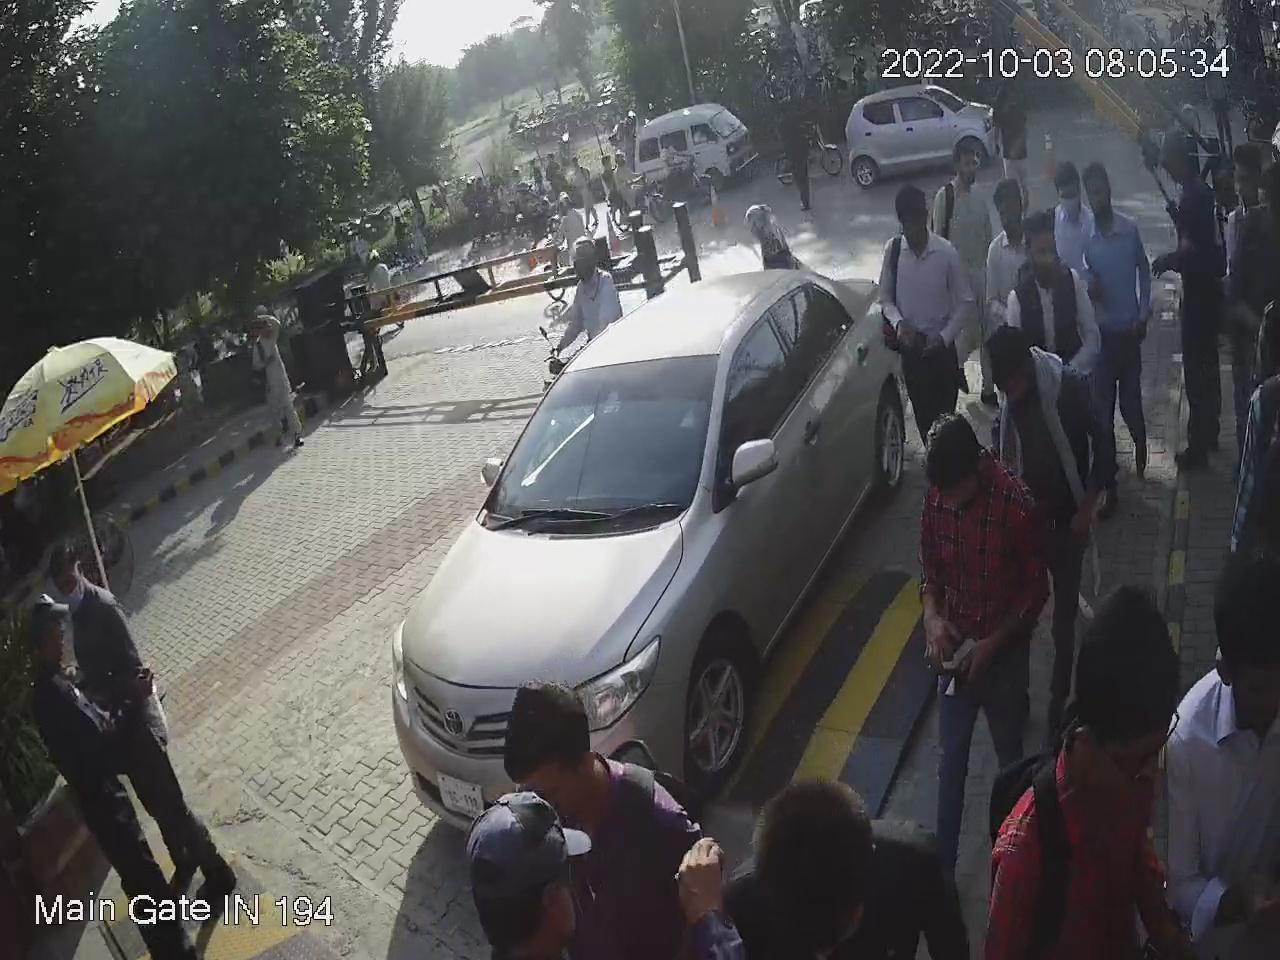windshield: (478, 345, 726, 535)
